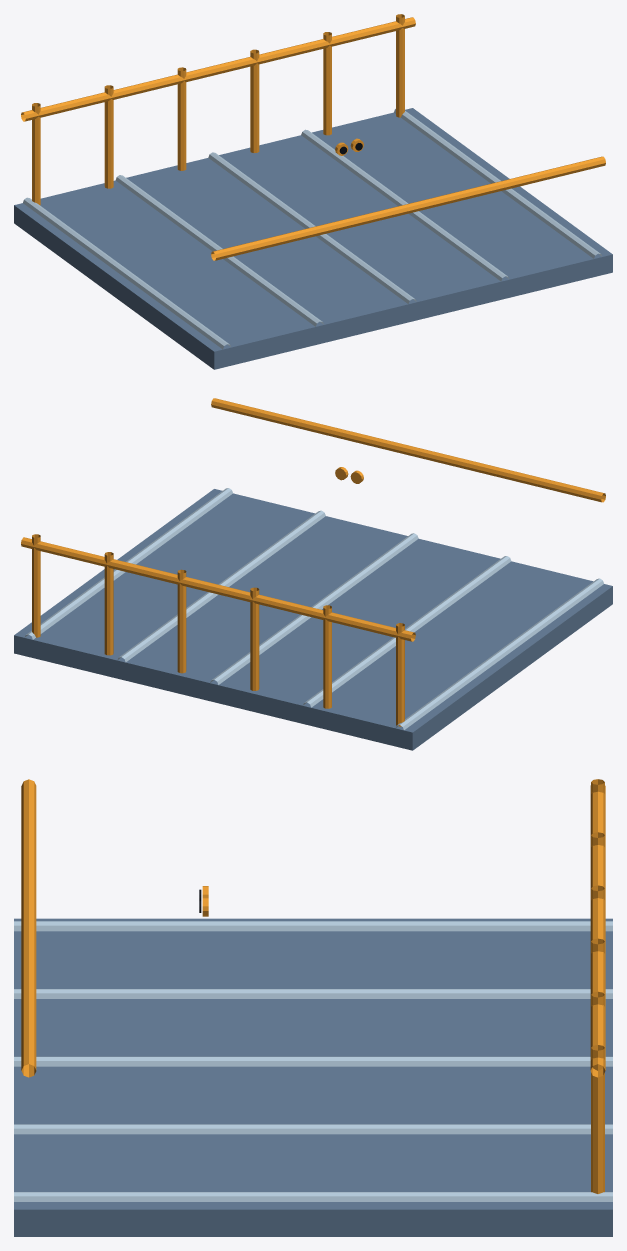
Rendered from 10_L89_OuterExposureInstrumentPlatform.fbx.
3 views of the same model, one above another, from view 1: azimuth 30°, elevation 25°; view 2: azimuth 150°, elevation 25°; view 3: azimuth 270°, elevation 25° (orthographic). The views are drawn at different scales.
Visible parts, largest first — view 1: L87_OuterExposureInstrumentPlatform_Part_0000, L87_OuterExposureInstrumentPlatform_Part_0002, L87_OuterExposureInstrumentPlatform_Part_0001; view 2: L87_OuterExposureInstrumentPlatform_Part_0000, L87_OuterExposureInstrumentPlatform_Part_0002, L87_OuterExposureInstrumentPlatform_Part_0001; view 3: L87_OuterExposureInstrumentPlatform_Part_0000, L87_OuterExposureInstrumentPlatform_Part_0001, L87_OuterExposureInstrumentPlatform_Part_0002.
Part boxes in pixels (<box>): L87_OuterExposureInstrumentPlatform_Part_0000: <box>14,108,612,369</box>; L87_OuterExposureInstrumentPlatform_Part_0002: <box>21,14,605,260</box>; L87_OuterExposureInstrumentPlatform_Part_0001: <box>23,108,601,349</box>; L87_OuterExposureInstrumentPlatform_Part_0000: <box>14,489,612,750</box>; L87_OuterExposureInstrumentPlatform_Part_0002: <box>21,398,605,726</box>; L87_OuterExposureInstrumentPlatform_Part_0001: <box>24,488,603,729</box>; L87_OuterExposureInstrumentPlatform_Part_0000: <box>14,918,612,1236</box>; L87_OuterExposureInstrumentPlatform_Part_0001: <box>14,921,612,1201</box>; L87_OuterExposureInstrumentPlatform_Part_0002: <box>21,779,605,1193</box>.
Bounding box in the file's own units: 460 × 146 × 400.
